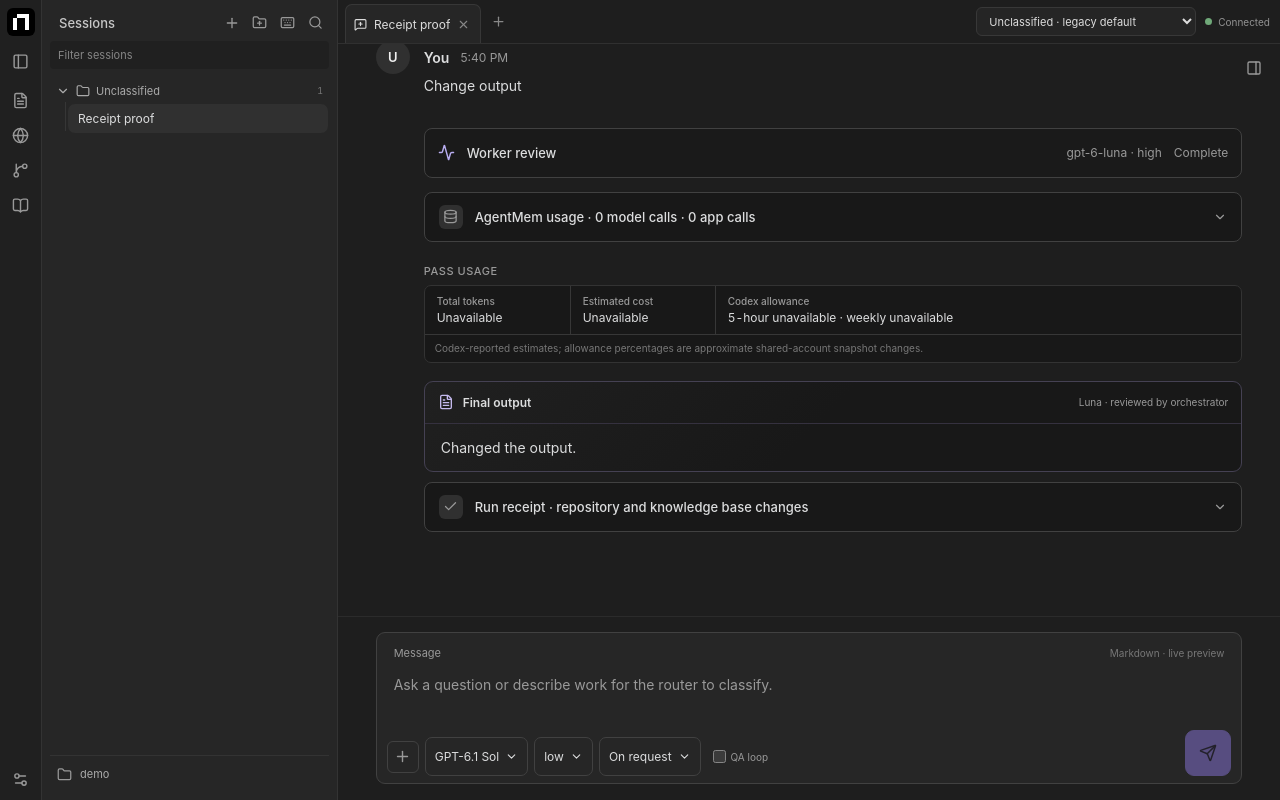
Test case: local task shell › shows the verified repository identity and the producing agent turn beside its receipt
(page scrolled)
Click the button "Run receipt · repository and knowledge base changes".
click(642, 507)  # box [425, 483, 1241, 531]
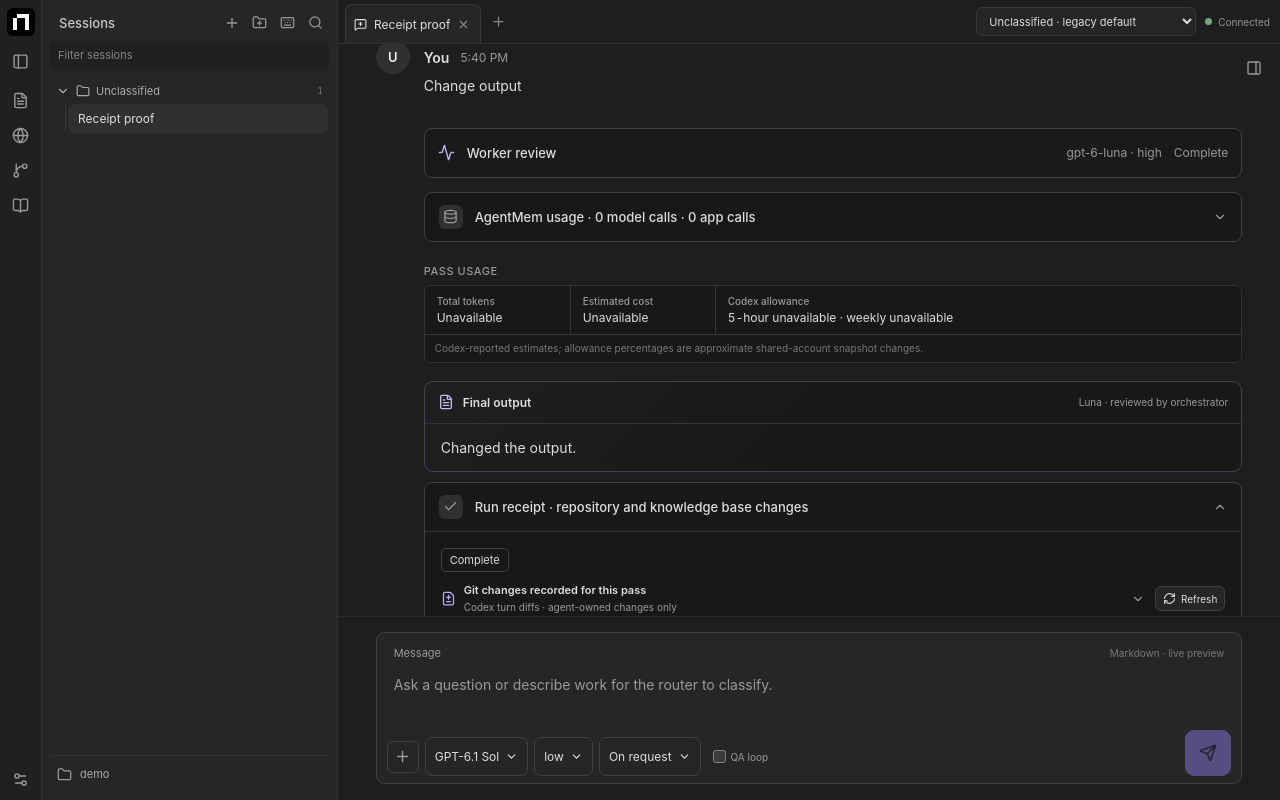
Click the button "AgentMem usage · 0 model calls · 0 app calls".
click(615, 217)  # box [425, 193, 1241, 241]
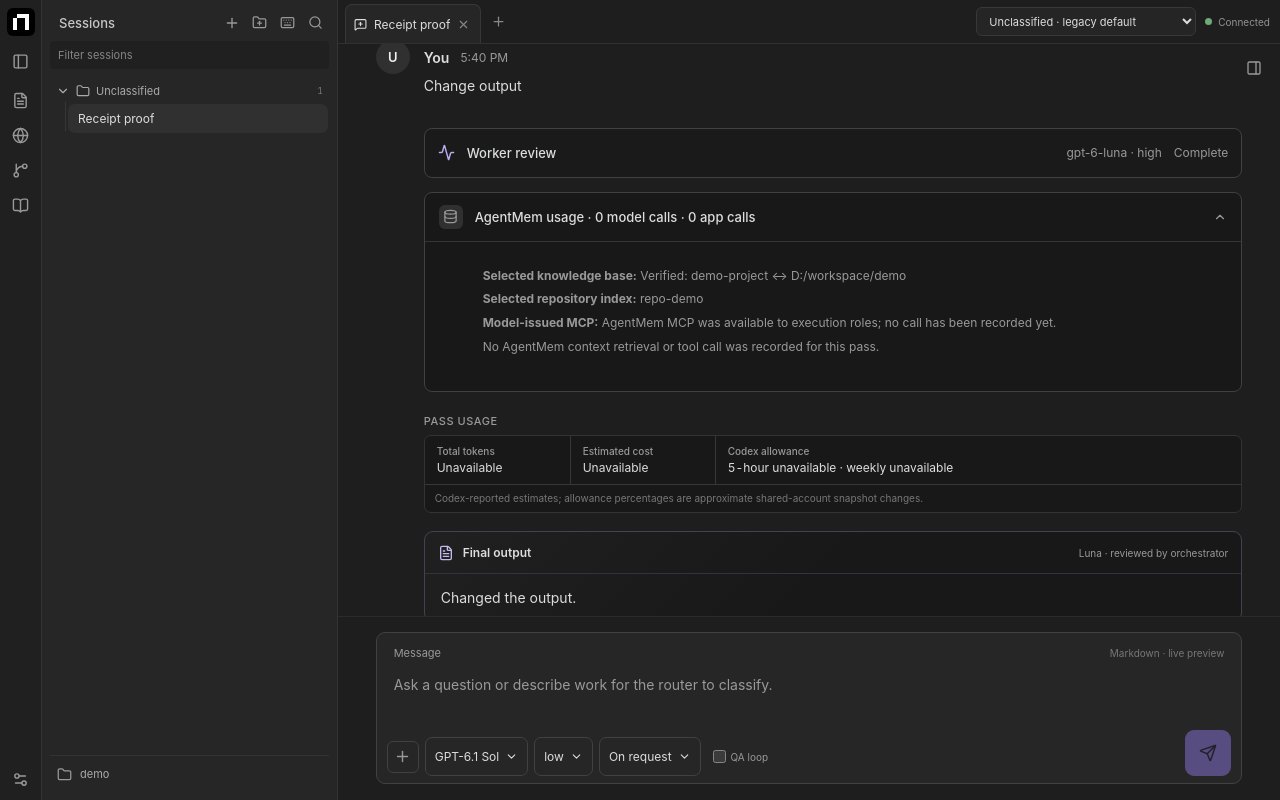
Check: the text "repo-demo" is shown, box [640, 291, 703, 306]
